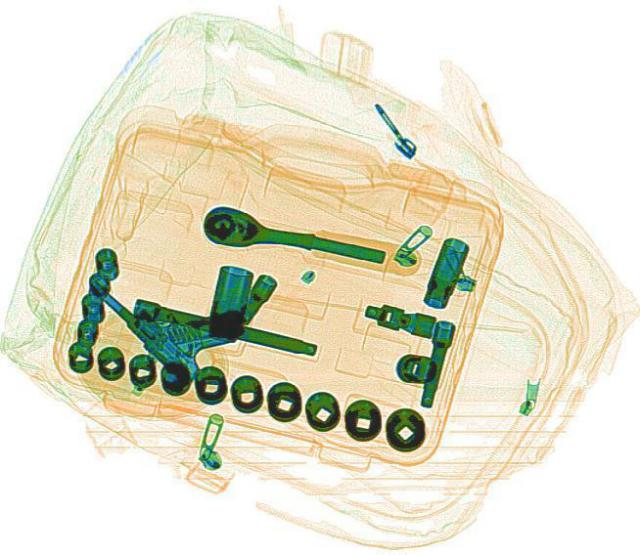Gun: (78, 241, 256, 384)
